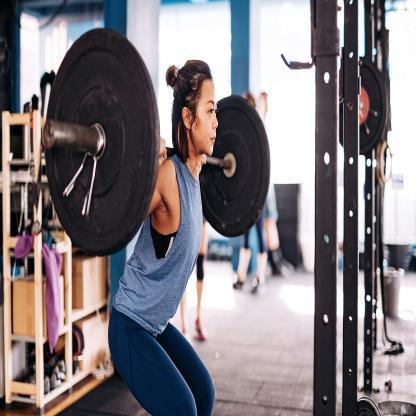barbell: (40, 24, 272, 258), (332, 54, 391, 154)
